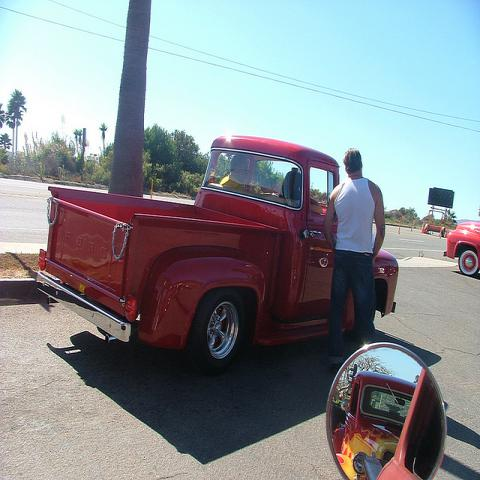car: (444, 221, 479, 278)
truck: (34, 135, 399, 376), (331, 366, 417, 479), (441, 221, 479, 277)
